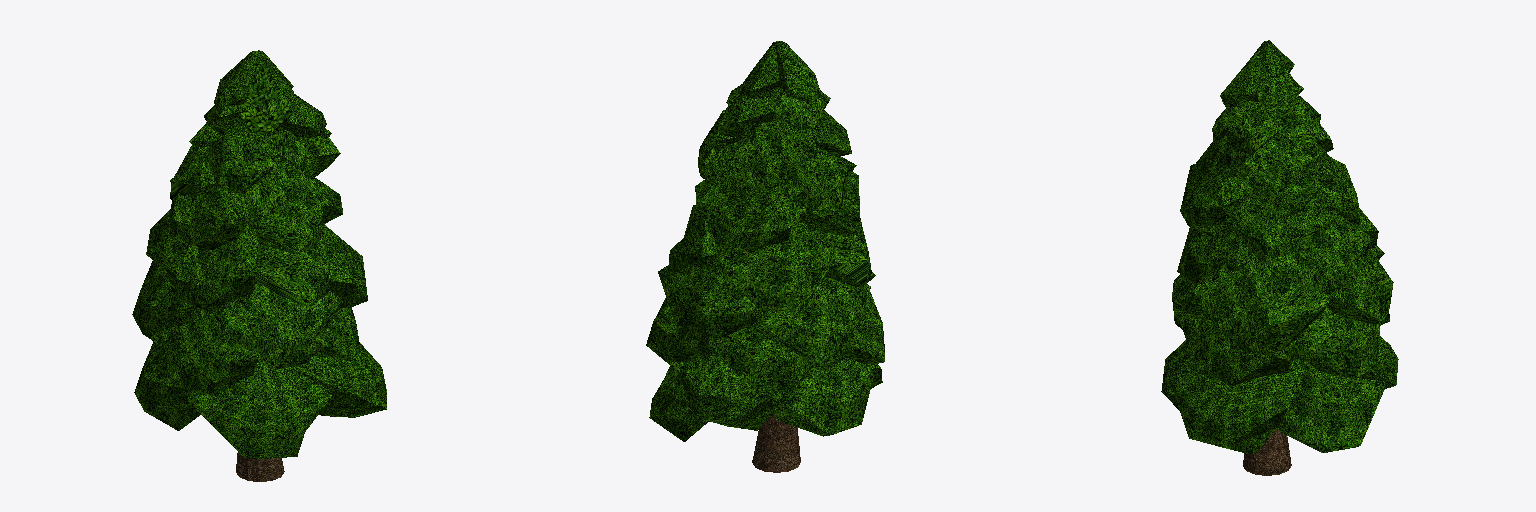
The picture shows the model from 3 angles: view 1: azimuth 30°, elevation 25°; view 2: azimuth 150°, elevation 25°; view 3: azimuth 270°, elevation 25°; orthographic projection.
Visible parts, largest first — view 1: Cylinder, Cylinder.001; view 2: Cylinder, Cylinder.001; view 3: Cylinder, Cylinder.001.
Boxes of the visible parts, x1=… form: Cylinder: x1=132, y1=50, x2=386, y2=458; Cylinder.001: x1=236, y1=452, x2=284, y2=481; Cylinder: x1=646, y1=41, x2=884, y2=441; Cylinder.001: x1=752, y1=414, x2=800, y2=472; Cylinder: x1=1161, y1=40, x2=1398, y2=455; Cylinder.001: x1=1243, y1=429, x2=1291, y2=475.
Size of the model in its own units: 5.72 by 11.13 by 5.68.
Materials: 2 (2 with a texture image).